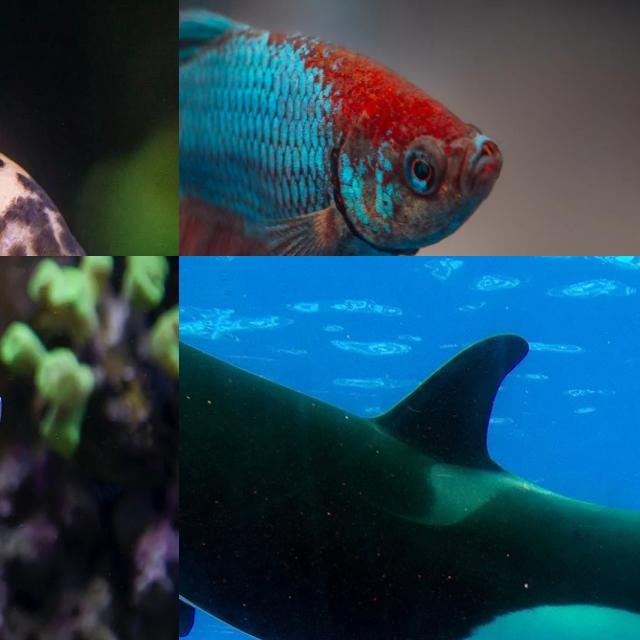fish: (179, 256, 640, 640), (0, 0, 179, 256), (179, 0, 339, 177)
